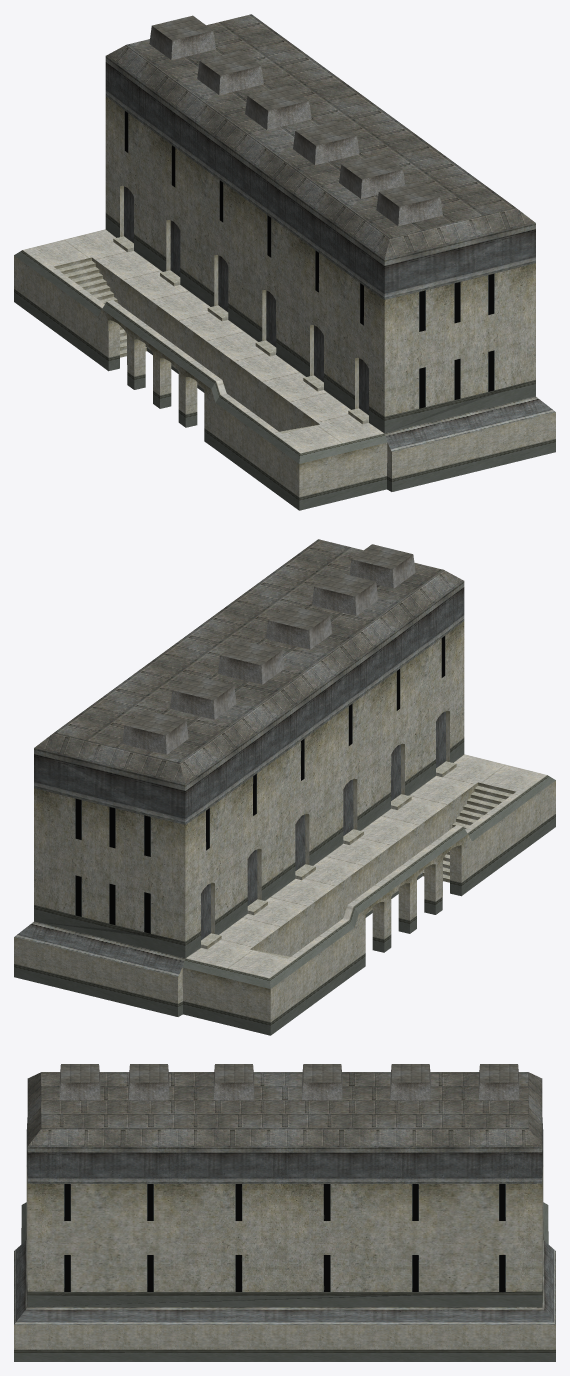
The model's file is thm_corl_imprv_slum_16x32_s02_l1.fbx.
The picture shows the model from 3 angles, top to bottom: view 1: azimuth 30°, elevation 25°; view 2: azimuth 150°, elevation 25°; view 3: azimuth 270°, elevation 25°; orthographic projection. The views are drawn at different scales.
Parts seen in each view (by area): view 1: mesh_node; view 2: mesh_node; view 3: mesh_node.
Boxes of the visible parts, box(x1,y1,x2,y2) form: mesh_node: box(14, 14, 555, 510); mesh_node: box(14, 539, 555, 1035); mesh_node: box(14, 1064, 555, 1361).
Bounding box in the file's own units: 15.86 × 15.51 × 31.9.
